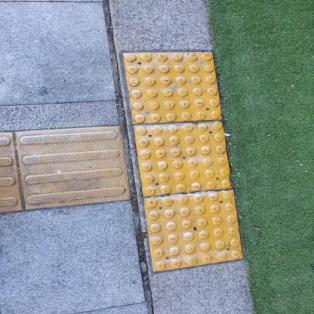Podoctatil: (0, 44, 251, 278)
